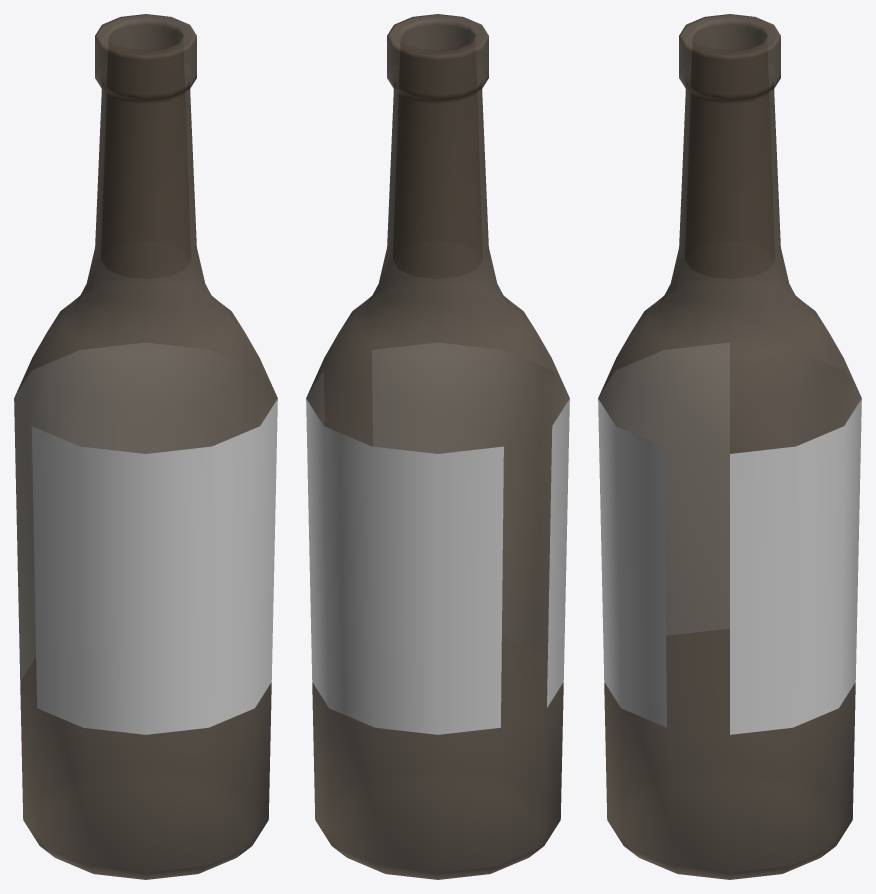
File: bottle.fbx
3 views of the same model, side by side, from view 1: azimuth 30°, elevation 25°; view 2: azimuth 150°, elevation 25°; view 3: azimuth 270°, elevation 25° (orthographic).
Parts seen in each view (by area): view 1: Bottle, Label; view 2: Bottle, Label; view 3: Bottle, Label.
Part boxes in pixels (x1,y1,x2,y2): Bottle: (14,14,277,879); Label: (14,343,277,734); Bottle: (306,14,569,879); Label: (306,343,569,734); Bottle: (598,14,861,879); Label: (598,343,861,734).
Size of the model in its own units: 8.58 by 28.72 by 8.58.
